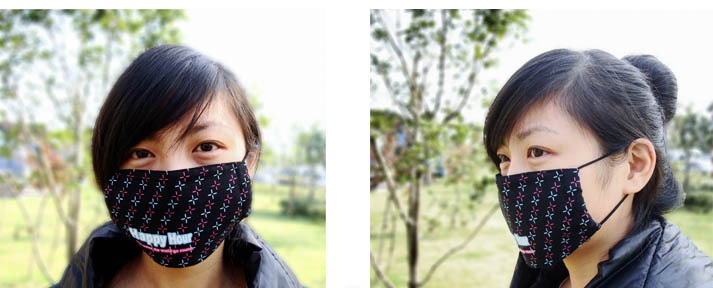face_mask: (116, 98, 249, 264), (493, 100, 605, 254)
